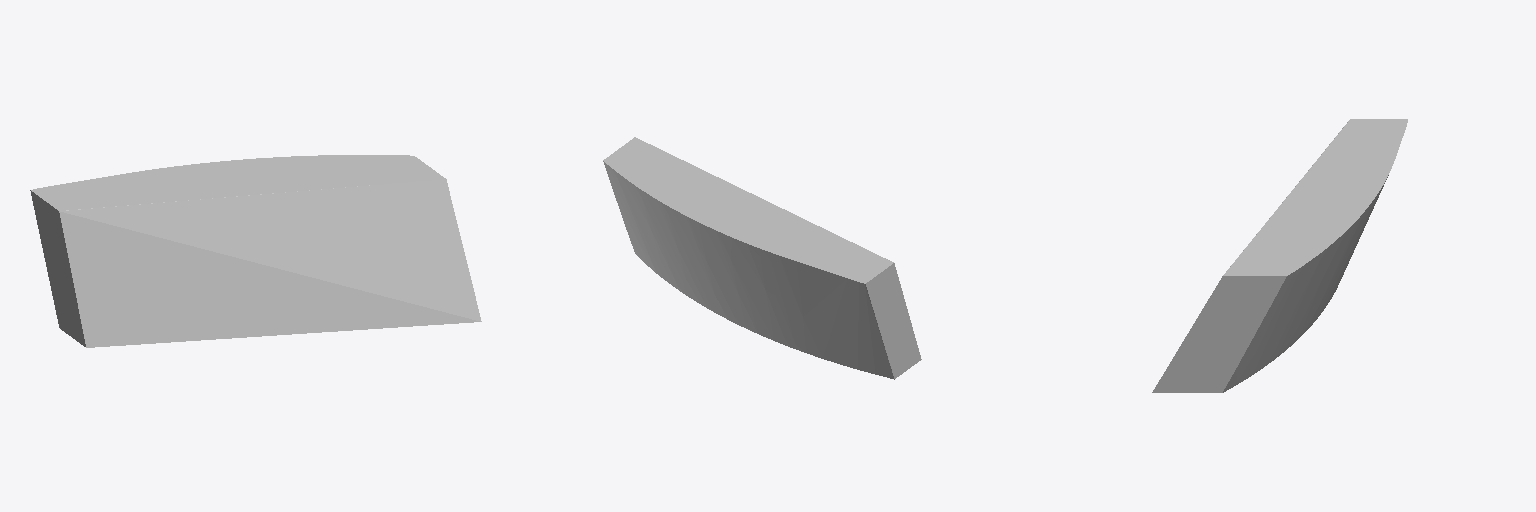
The model's file is skillet_collision_27.obj.
3 views of the same model, side by side, from view 1: azimuth 30°, elevation 25°; view 2: azimuth 150°, elevation 25°; view 3: azimuth 270°, elevation 25° (orthographic).
Bounding box in the file's own units: 0.0564 × 0.0195 × 0.0388.